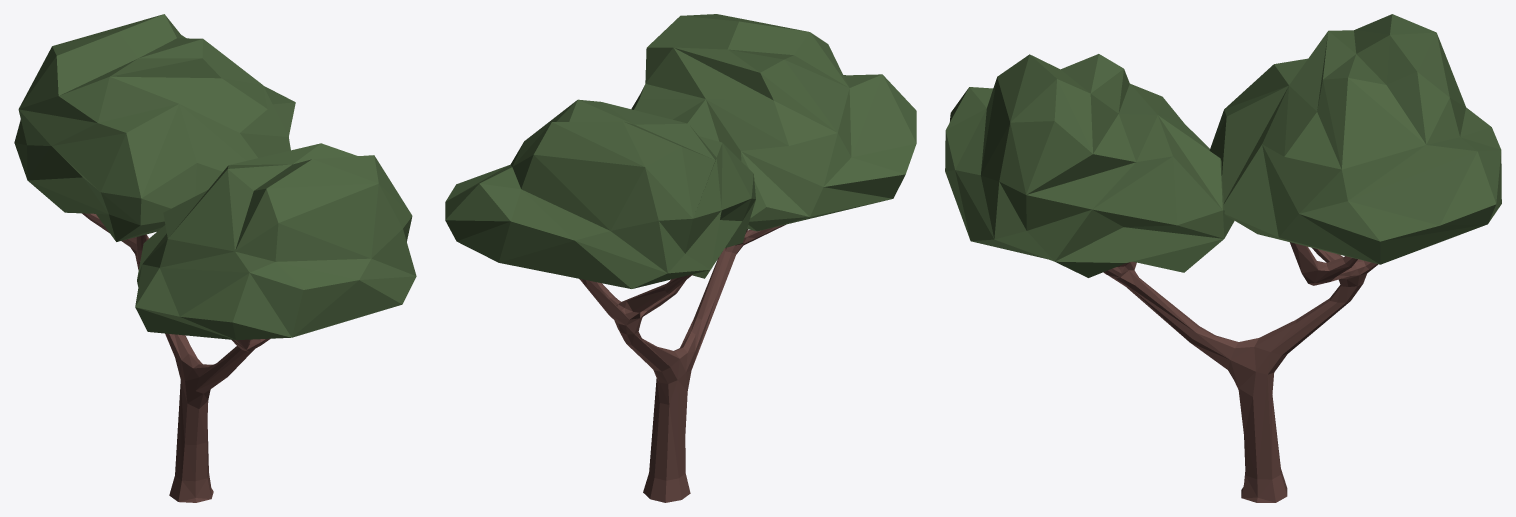
Rendered from CommonTree_1.glb.
The picture shows the model from 3 angles, left to right: view 1: azimuth 30°, elevation 25°; view 2: azimuth 150°, elevation 25°; view 3: azimuth 270°, elevation 25°; orthographic projection. The views are drawn at different scales.
Visible parts, largest first — view 1: CommonTree_1; view 2: CommonTree_1; view 3: CommonTree_1.
Part boxes in pixels (x1,y1,x2,y2): CommonTree_1: (14, 14, 416, 502); CommonTree_1: (445, 14, 916, 502); CommonTree_1: (945, 14, 1501, 502).
Size of the model in its own units: 1.89 by 2.48 by 2.77.
